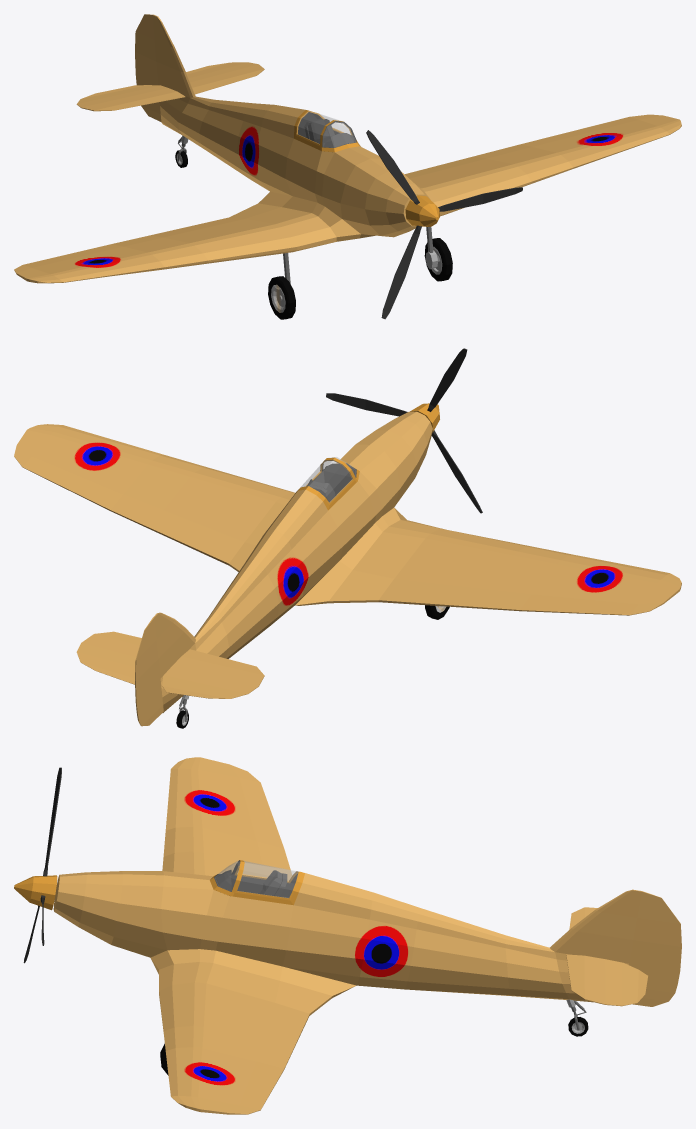
3 renders of one model, top to bottom at view 1: azimuth 30°, elevation 25°; view 2: azimuth 150°, elevation 25°; view 3: azimuth 270°, elevation 25°, orthographic. The views are drawn at different scales.
Visible parts, largest first — view 1: Body, propeller, Rudder, Landing gear_FR, Landing gear_FL, Circle.004, L_ailerone, R_ailerone, R_elevator; view 2: Body, L_ailerone, R_ailerone, propeller, Rudder, Circle.004, R_elevator, L_elevator; view 3: Body, Rudder, R_ailerone, Circle.004, L_ailerone, propeller, L_elevator.
Part boxes in pixels (x1=…): Body: x1=14, y1=15, x2=681, y2=283; propeller: x1=366, y1=130, x2=522, y2=319; Rudder: x1=135, y1=14, x2=161, y2=121; Landing gear_FR: x1=268, y1=253, x2=295, y2=319; Landing gear_FL: x1=424, y1=227, x2=452, y2=281; Circle.004: x1=295, y1=110, x2=351, y2=146; L_ailerone: x1=473, y1=117, x2=638, y2=158; R_ailerone: x1=23, y1=235, x2=162, y2=267; R_elevator: x1=77, y1=85, x2=160, y2=103; Body: x1=14, y1=411, x2=681, y2=712; L_ailerone: x1=22, y1=456, x2=162, y2=528; R_ailerone: x1=473, y1=589, x2=638, y2=615; propeller: x1=326, y1=348, x2=482, y2=513; Rudder: x1=135, y1=617, x2=163, y2=726; Circle.004: x1=300, y1=459, x2=354, y2=504; R_elevator: x1=162, y1=675, x2=247, y2=698; L_elevator: x1=76, y1=652, x2=135, y2=684; Body: x1=53, y1=757, x2=641, y2=1114; Rudder: x1=629, y1=891, x2=681, y2=1006; R_ailerone: x1=240, y1=778, x2=291, y2=875; Circle.004: x1=234, y1=860, x2=300, y2=900; L_ailerone: x1=240, y1=1042, x2=292, y2=1109; propeller: x1=14, y1=767, x2=61, y2=963; L_elevator: x1=621, y1=962, x2=647, y2=1006.
Size of the model in its own units: 1627 by 526 by 1305.
